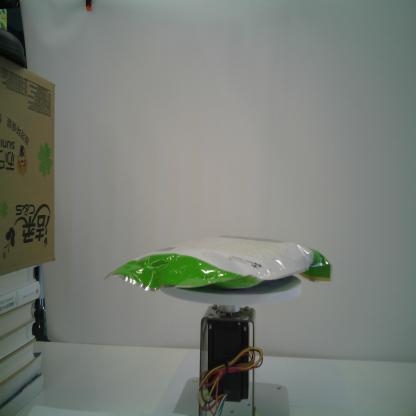Dried Food: (100, 232, 332, 295)
